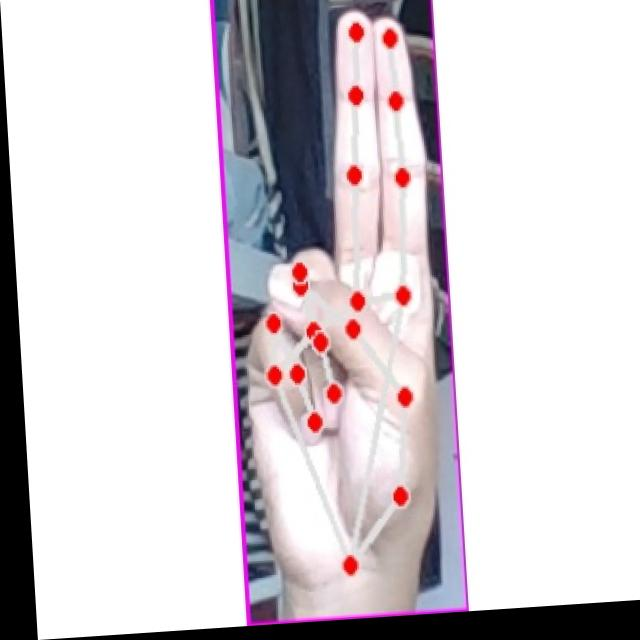U: (231, 2, 445, 596)
